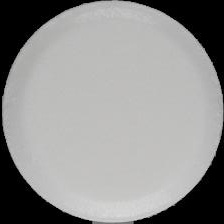51655-027: (0, 0, 224, 224)
